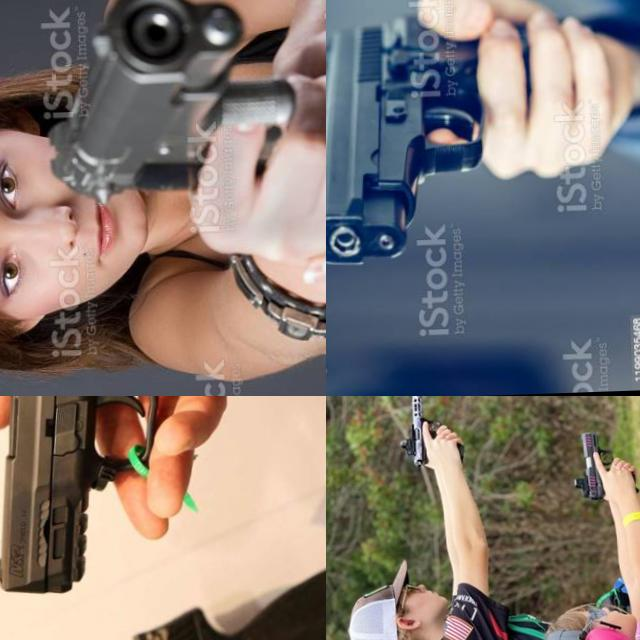handgun: (0, 396, 318, 601), (38, 0, 298, 205), (326, 7, 496, 270), (396, 396, 440, 469), (570, 429, 614, 502)
